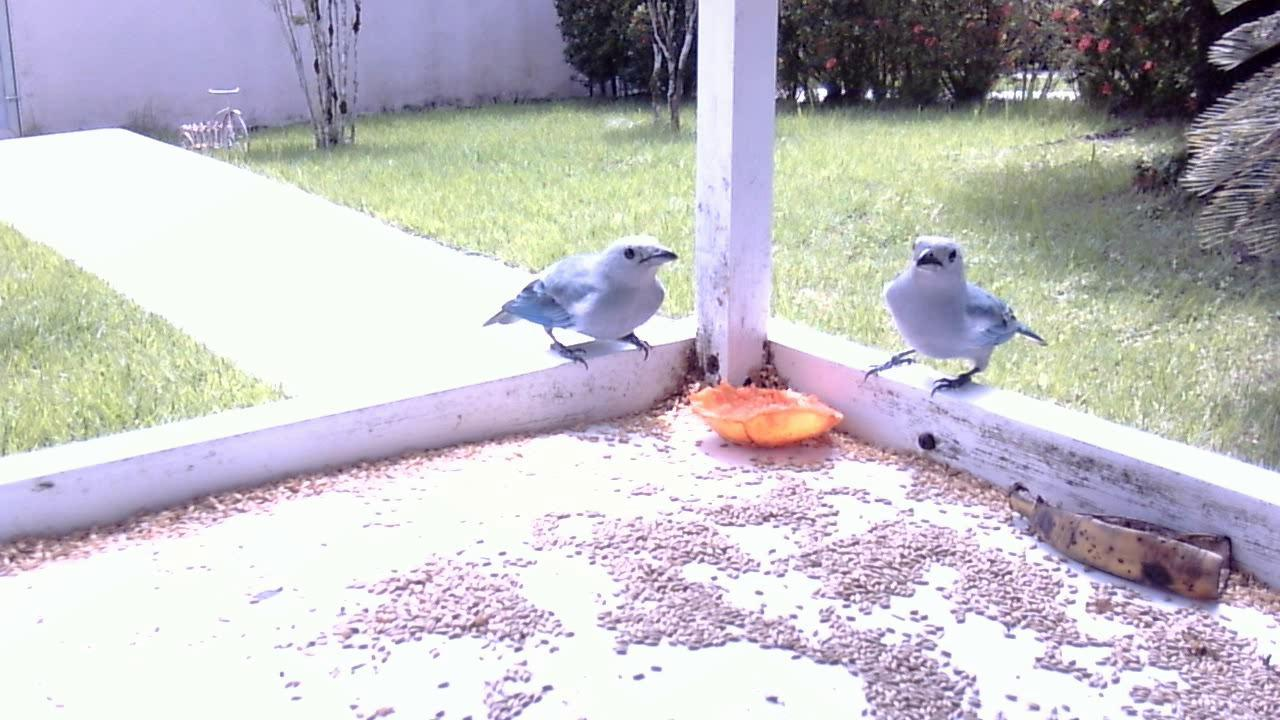sanhaco_da_amazonia: (859, 234, 1041, 401), (472, 230, 677, 373)
